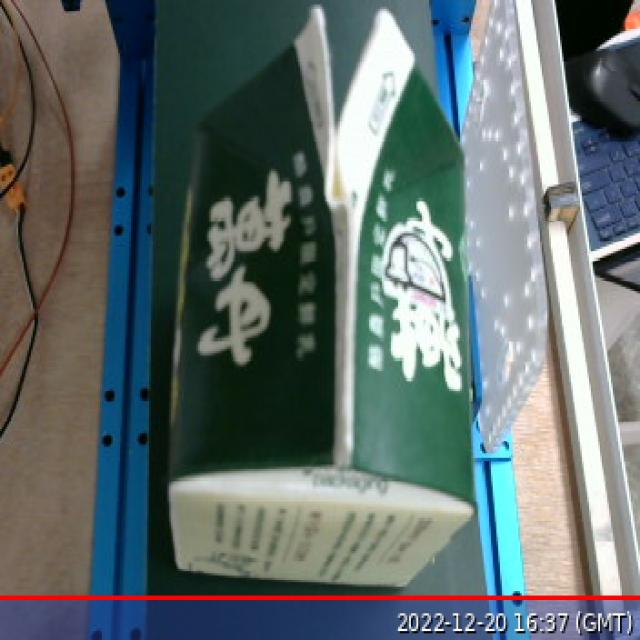non_white_jug: (145, 0, 495, 612)
